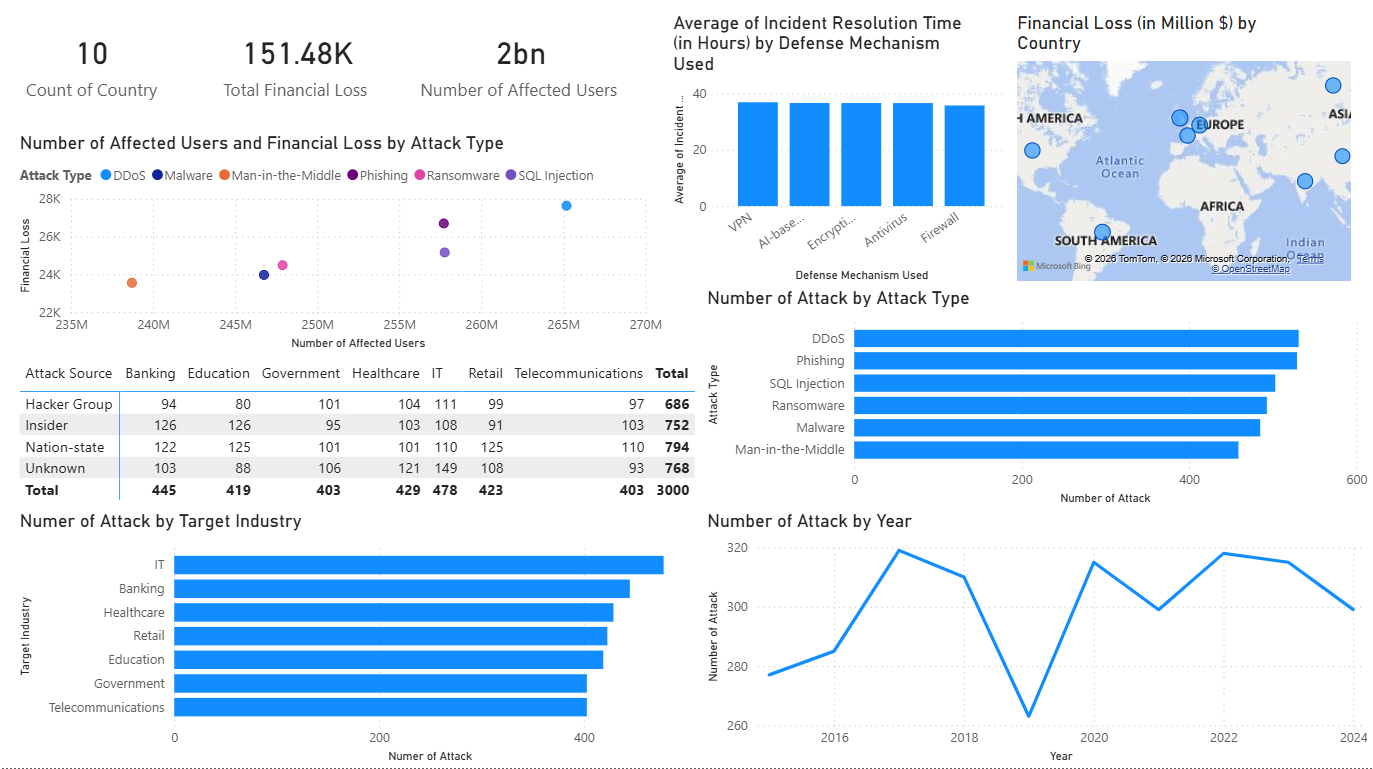

This screenshot's page, from the dashboard's own definition file:
{"tool":"powerbi","page":{"name":"Page 1","canvas":[1280,720],"ordinal":0},"visuals":[{"type":"card","fields":{"Values":["Count(Global_Cybersecurity_Threats_2015-2024.Country)"]},"box":[16,16,144,96],"z":0},{"type":"card","fields":{"Values":["Sum(Global_Cybersecurity_Threats_2015-2024.Financial Loss (in Million $))"]},"box":[192,16,176,96],"z":1000},{"type":"card","fields":{"Values":["Sum(Global_Cybersecurity_Threats_2015-2024.Number of Affected Users)"]},"box":[384,16,208,96],"z":2000},{"type":"lineChart","fields":{"Category":["Global_Cybersecurity_Threats_2015-2024.Year"],"Y":["CountNonNull(Global_Cybersecurity_Threats_2015-2024.Attack Type)"]},"box":[656,480,624,240],"z":3000},{"type":"barChart","fields":{"Category":["Global_Cybersecurity_Threats_2015-2024.Attack Type"],"Y":["CountNonNull(Global_Cybersecurity_Threats_2015-2024.Attack Type)"]},"box":[656,272,624,208],"z":4000},{"type":"barChart","fields":{"Category":["Global_Cybersecurity_Threats_2015-2024.Target Industry"],"Y":["CountNonNull(Global_Cybersecurity_Threats_2015-2024.Attack Type)"]},"box":[16,480,640,240],"z":5000},{"type":"map","fields":{"Category":["Global_Cybersecurity_Threats_2015-2024.Country"],"Size":["Sum(Global_Cybersecurity_Threats_2015-2024.Financial Loss (in Million $))"]},"box":[944,16,320,256],"z":6000},{"type":"pivotTable","fields":{"Rows":["Global_Cybersecurity_Threats_2015-2024.Attack Source"],"Columns":["Global_Cybersecurity_Threats_2015-2024.Target Industry"],"Values":["CountNonNull(Global_Cybersecurity_Threats_2015-2024.Attack Type)"]},"box":[16,336,640,144],"z":7000},{"type":"clusteredColumnChart","fields":{"Category":["Global_Cybersecurity_Threats_2015-2024.Defense Mechanism Used"],"Y":["Avg(Global_Cybersecurity_Threats_2015-2024.Incident Resolution Time (in Hours))"]},"box":[624,16,320,256],"z":8000},{"type":"scatterChart","fields":{"X":["Sum(Global_Cybersecurity_Threats_2015-2024.Number of Affected Users)"],"Y":["Sum(Global_Cybersecurity_Threats_2015-2024.Financial Loss (in Million $))"],"Series":["Global_Cybersecurity_Threats_2015-2024.Attack Type"]},"box":[16,128,608,208],"z":9000}]}

Visuals, with their boxes in screenshot pixels (x1, y1, x2, y2), scaled from the page's 1280x720 canvas onto the 1373x769 screenshot:
card - Count(Global_Cybersecurity_Threats_2015-2024.Country): 17,17,172,120
card - Sum(Global_Cybersecurity_Threats_2015-2024.Financial Loss (in Million $)): 206,17,395,120
card - Sum(Global_Cybersecurity_Threats_2015-2024.Number of Affected Users): 412,17,635,120
lineChart - Global_Cybersecurity_Threats_2015-2024.Year x CountNonNull(Global_Cybersecurity_Threats_2015-2024.Attack Type): 704,513,1372,768
barChart - Global_Cybersecurity_Threats_2015-2024.Attack Type x CountNonNull(Global_Cybersecurity_Threats_2015-2024.Attack Type): 704,291,1372,513
barChart - Global_Cybersecurity_Threats_2015-2024.Target Industry x CountNonNull(Global_Cybersecurity_Threats_2015-2024.Attack Type): 17,513,704,768
map - Global_Cybersecurity_Threats_2015-2024.Country x Sum(Global_Cybersecurity_Threats_2015-2024.Financial Loss (in Million $)): 1013,17,1356,291
pivotTable - Global_Cybersecurity_Threats_2015-2024.Attack Source x Global_Cybersecurity_Threats_2015-2024.Target Industry: 17,359,704,513
clusteredColumnChart - Global_Cybersecurity_Threats_2015-2024.Defense Mechanism Used x Avg(Global_Cybersecurity_Threats_2015-2024.Incident Resolution Time (in Hours)): 669,17,1013,291
scatterChart - Sum(Global_Cybersecurity_Threats_2015-2024.Number of Affected Users) x Sum(Global_Cybersecurity_Threats_2015-2024.Financial Loss (in Million $)): 17,137,669,359
